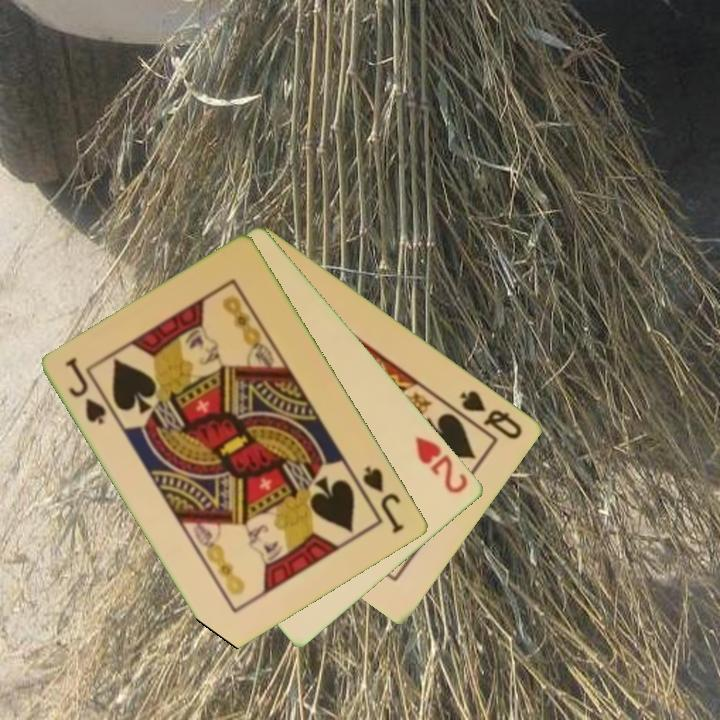2h: (412, 433, 472, 497)
Js: (359, 462, 408, 536), (62, 353, 110, 428)
Qs: (456, 386, 526, 443)
